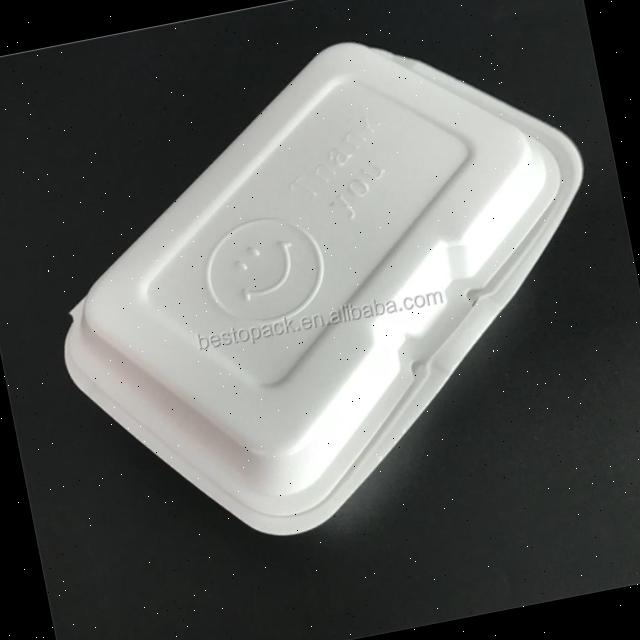styrofoam: (13, 0, 640, 572)
